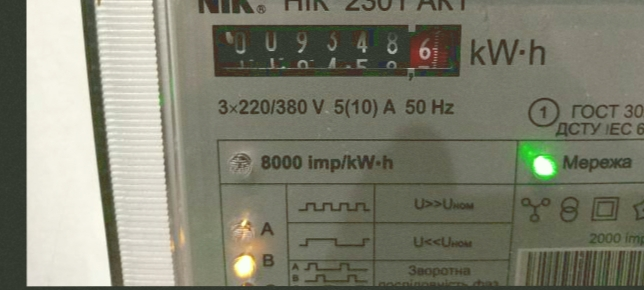0: (262, 27, 277, 50), (232, 27, 245, 53)
3: (323, 26, 337, 52)
4: (353, 26, 367, 53)
6: (415, 33, 432, 60)
8: (383, 27, 398, 55)
9: (292, 27, 307, 53)
screen: (201, 15, 470, 84)
